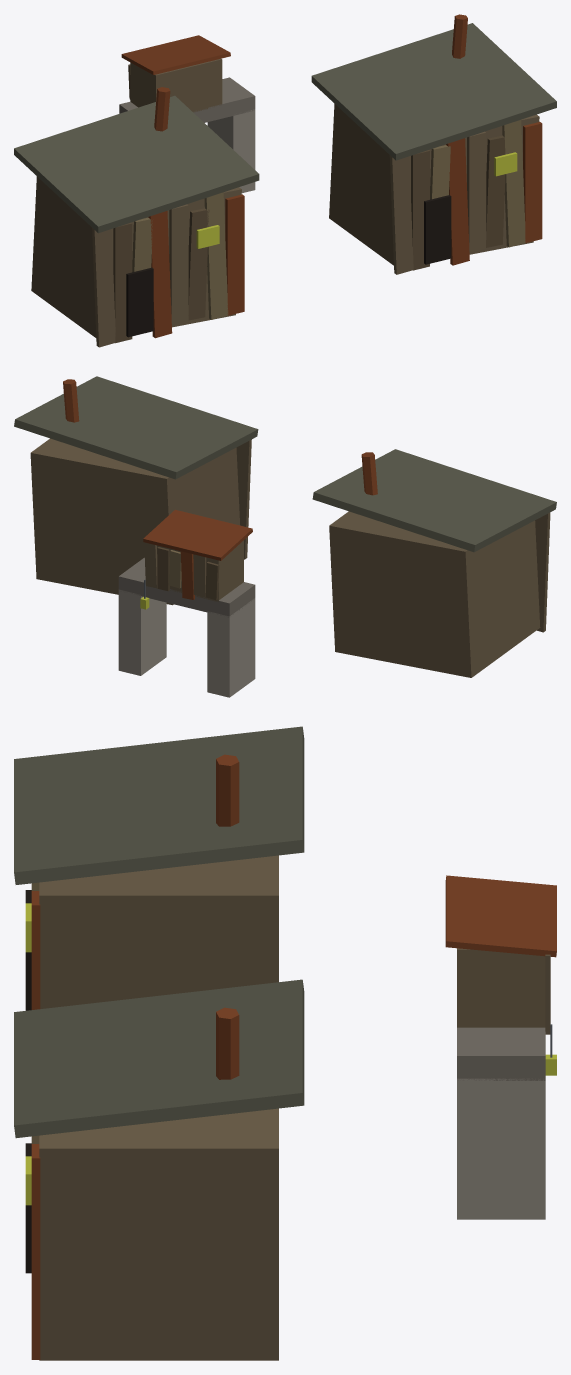
The model's file is ratfolk_row_broken.glb.
3 views of the same model, one above another, from view 1: azimuth 30°, elevation 25°; view 2: azimuth 150°, elevation 25°; view 3: azimuth 270°, elevation 25° (orthographic). The views are drawn at different scales.
Parts seen in each view (by area): view 1: ratfolk_row_piece3, ratfolk_row_piece2, ratfolk_row_piece1, ratfolk_row_piece9, ratfolk_row_piece0, ratfolk_row_piece10, ratfolk_row_piece4, ratfolk_row_piece8, ratfolk_row_piece5, ratfolk_row_piece12, ratfolk_row_piece13, ratfolk_row_piece11; view 2: ratfolk_row_piece3, ratfolk_row_piece2, ratfolk_row_piece0, ratfolk_row_piece8, ratfolk_row_piece9, ratfolk_row_piece10, ratfolk_row_piece11, ratfolk_row_piece7, ratfolk_row_piece5, ratfolk_row_piece13, ratfolk_row_piece1, ratfolk_row_piece4 (+1 smaller); view 3: ratfolk_row_piece3, ratfolk_row_piece2, ratfolk_row_piece10, ratfolk_row_piece4, ratfolk_row_piece0, ratfolk_row_piece8, ratfolk_row_piece12, ratfolk_row_piece9.
Boxes of the visible parts, x1,y1,x2,y2 form: ratfolk_row_piece3: [317, 14, 556, 254]; ratfolk_row_piece2: [75, 87, 259, 341]; ratfolk_row_piece1: [228, 170, 469, 316]; ratfolk_row_piece9: [47, 168, 120, 347]; ratfolk_row_piece0: [14, 62, 169, 265]; ratfolk_row_piece10: [203, 76, 255, 193]; ratfolk_row_piece4: [163, 35, 230, 120]; ratfolk_row_piece8: [119, 37, 191, 113]; ratfolk_row_piece5: [33, 58, 152, 290]; ratfolk_row_piece12: [138, 36, 194, 106]; ratfolk_row_piece13: [44, 48, 182, 273]; ratfolk_row_piece11: [31, 240, 48, 302]; ratfolk_row_piece3: [14, 376, 258, 594]; ratfolk_row_piece2: [312, 449, 556, 585]; ratfolk_row_piece0: [222, 510, 510, 624]; ratfolk_row_piece8: [144, 540, 371, 697]; ratfolk_row_piece9: [468, 512, 547, 665]; ratfolk_row_piece10: [118, 557, 166, 675]; ratfolk_row_piece11: [365, 627, 487, 677]; ratfolk_row_piece7: [333, 530, 409, 647]; ratfolk_row_piece5: [226, 536, 488, 652]; ratfolk_row_piece13: [184, 529, 489, 635]; ratfolk_row_piece1: [166, 453, 251, 605]; ratfolk_row_piece4: [143, 509, 346, 609]; ratfolk_row_piece3: [14, 982, 304, 1360]; ratfolk_row_piece2: [14, 750, 304, 1010]; ratfolk_row_piece10: [457, 979, 556, 1219]; ratfolk_row_piece4: [276, 884, 556, 1012]; ratfolk_row_piece0: [177, 726, 470, 897]; ratfolk_row_piece8: [517, 882, 556, 1025]; ratfolk_row_piece12: [486, 886, 556, 947]; ratfolk_row_piece9: [93, 740, 177, 770].
Bounding box in the file's own units: 5.42 × 2.16 × 3.17.
